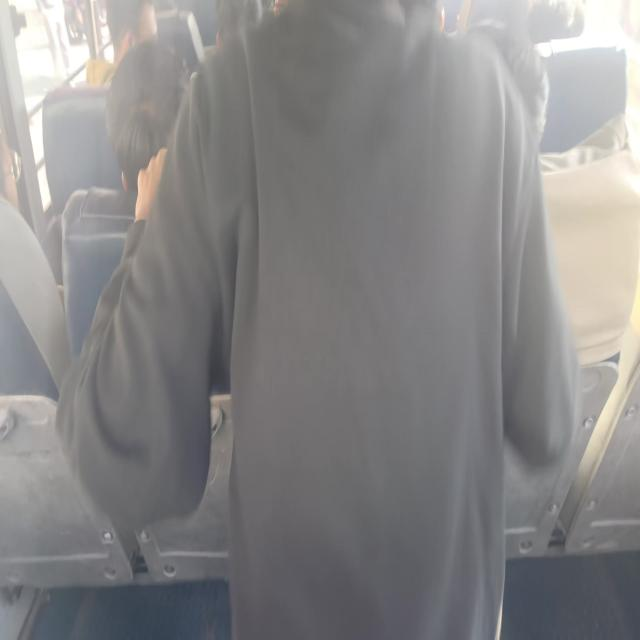person: (189, 0, 558, 639), (477, 37, 552, 153), (117, 62, 180, 183), (0, 109, 38, 241), (524, 0, 594, 59), (99, 1, 165, 61)
